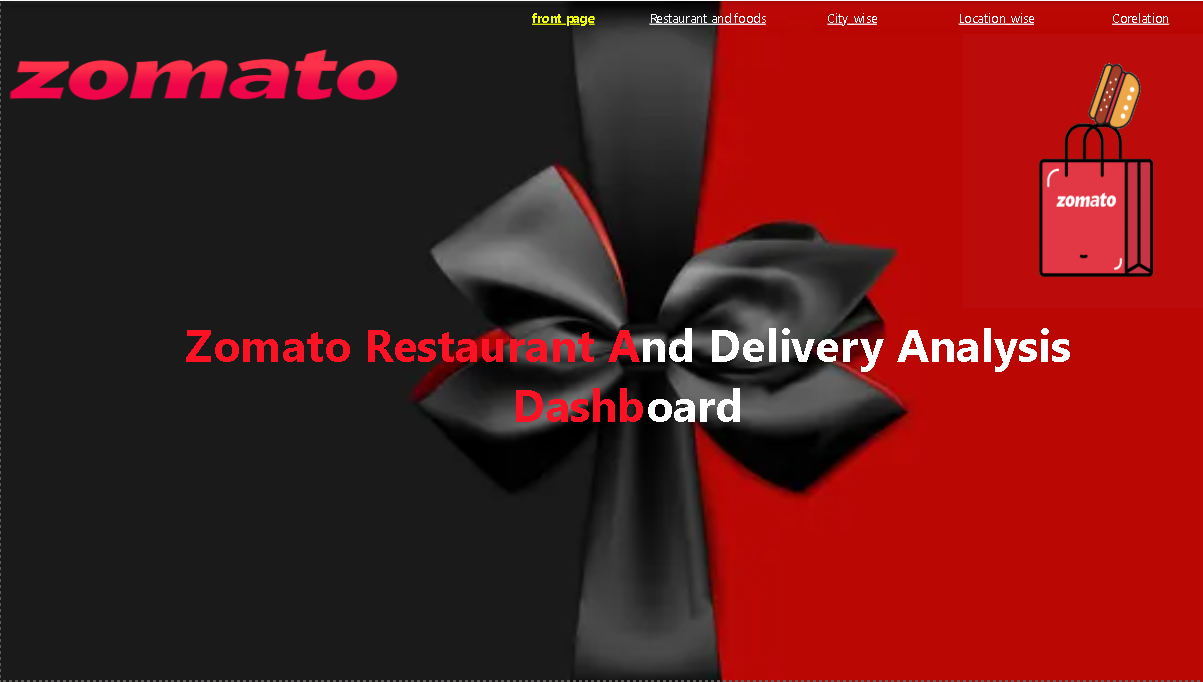

What the dashboard file says about the page in this screenshot:
{"tool":"powerbi","page":{"name":"front page","canvas":[1280,720],"ordinal":0},"visuals":[{"type":"textbox","box":[114.5,326.1,1100.7,162.2],"z":0},{"type":"image","box":[0,0,429.5,155.9],"z":1000},{"type":"pageNavigator","box":[524.5,0,755.5,35],"z":2000},{"type":"actionButton","box":[1019.6,35,260.9,291.1],"z":4000}]}

Visuals, with their boxes in screenshot pixels (x1, y1, x2, y2), scaled from the page's 1280x720 canvas onto the 1203x682 screenshot:
textbox: {"left": 108, "top": 309, "right": 1142, "bottom": 463}
image: {"left": 0, "top": 0, "right": 404, "bottom": 148}
pageNavigator: {"left": 493, "top": 0, "right": 1202, "bottom": 33}
actionButton: {"left": 958, "top": 33, "right": 1202, "bottom": 309}
